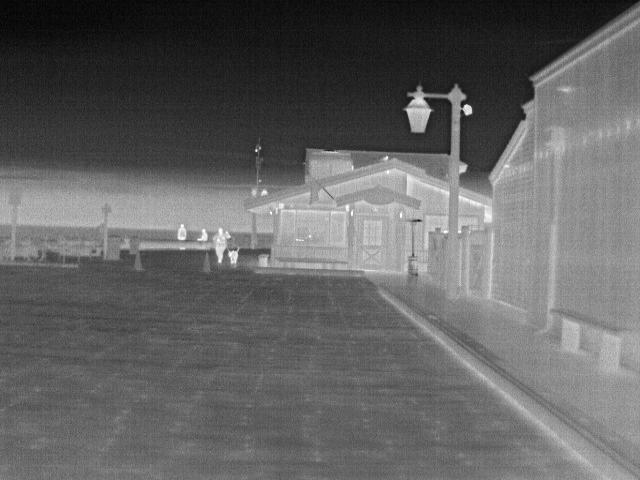dog: (227, 245, 240, 265)
person: (212, 225, 228, 264), (176, 223, 190, 241), (196, 227, 210, 241)
